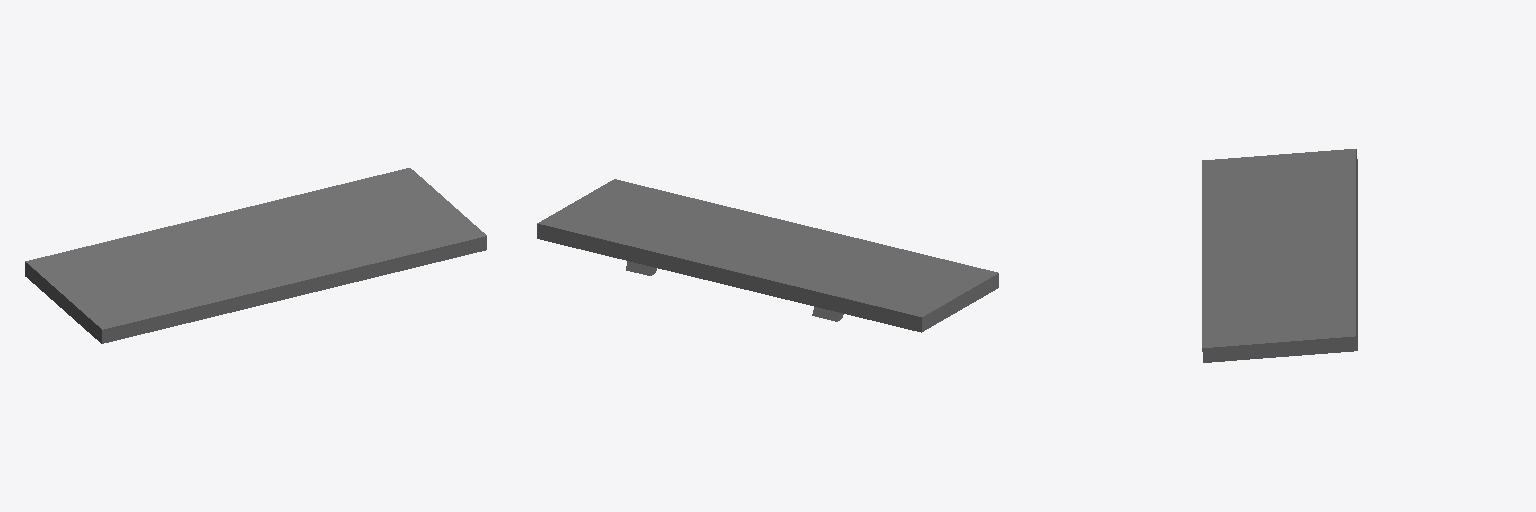
File: keyboard_final.obj
The picture shows the model from 3 angles: view 1: azimuth 30°, elevation 25°; view 2: azimuth 150°, elevation 25°; view 3: azimuth 270°, elevation 25°; orthographic projection.
Visible parts, largest first — view 1: g pCube1_pCube1; view 2: g pCube1_pCube1; view 3: g pCube1_pCube1.
Part boxes in pixels (x1,y1,x2,y2): g pCube1_pCube1: (25, 168, 486, 343); g pCube1_pCube1: (537, 179, 998, 332); g pCube1_pCube1: (1202, 149, 1357, 362).
Size of the model in its own units: 10.09 by 0.6781 by 3.53.